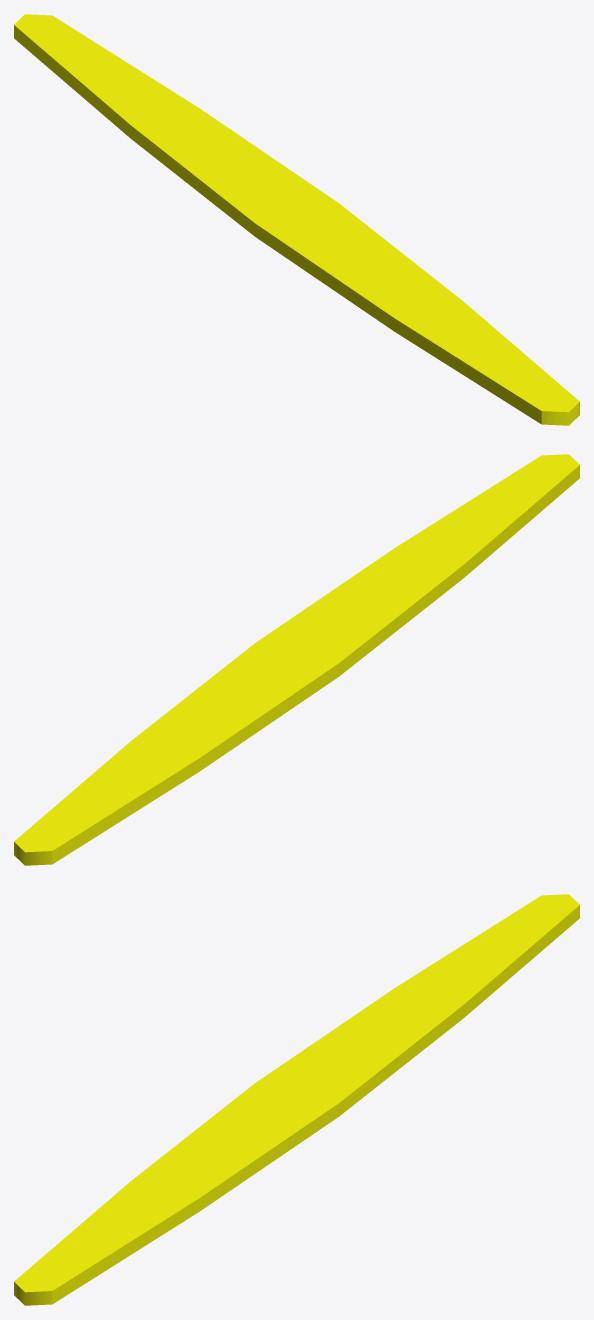
The model's file is PlayerLaser.fbx.
The picture shows the model from 3 angles, top to bottom: view 1: azimuth 30°, elevation 25°; view 2: azimuth 150°, elevation 25°; view 3: azimuth 330°, elevation 25°; orthographic projection.
Visible parts, largest first — view 1: Player_Laser; view 2: Player_Laser; view 3: Player_Laser.
Boxes of the visible parts, box(x1,y1,x2,y2) form: Player_Laser: box(14, 14, 579, 425); Player_Laser: box(14, 454, 579, 865); Player_Laser: box(14, 894, 579, 1305).
Bounding box in the file's own units: 0.3256 × 0.0503 × 3.67.
